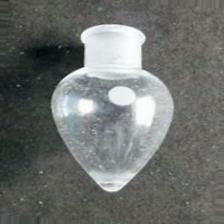Pear shaped flask: (44, 14, 174, 194)
